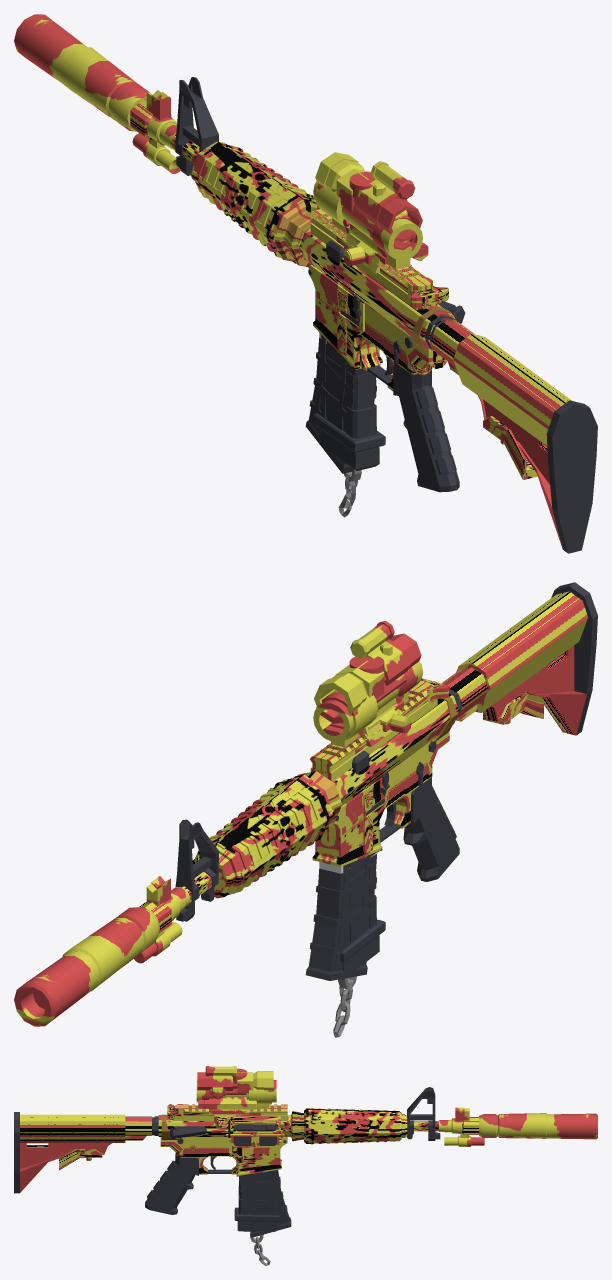
3 views of the same model, one above another, from view 1: azimuth 30°, elevation 25°; view 2: azimuth 150°, elevation 25°; view 3: azimuth 270°, elevation 25° (orthographic). The views are drawn at different scales.
Parts seen in each view (by area): view 1: Base, Patron3, Aim3, Muffler2, Muffler3, Handle2, Aim2, Handle3, Patron2, Aim1; view 2: Base, Muffler3, Aim3, Muffler2, Patron3, Aim2, Handle2, Patron1, Patron2, Handle3, Aim1; view 3: Base, Muffler2, Patron3, Muffler3, Aim3, Patron2, Handle3, Aim1, Handle2, Aim2, Patron1, Muffle.
Boxes of the visible parts, x1,y1,x2,y2 form: Base: [171, 77, 597, 553]; Patron3: [313, 335, 385, 517]; Aim3: [315, 152, 422, 269]; Muffler2: [60, 47, 177, 150]; Muffler3: [14, 14, 180, 173]; Handle2: [393, 364, 459, 492]; Aim2: [313, 172, 422, 273]; Handle3: [405, 370, 456, 491]; Patron2: [305, 333, 376, 473]; Aim1: [341, 205, 428, 265]; Base: [175, 582, 597, 921]; Muffler3: [14, 883, 185, 1026]; Aim3: [314, 621, 421, 747]; Muffler2: [62, 876, 190, 991]; Patron3: [333, 853, 385, 1037]; Aim2: [313, 656, 423, 746]; Handle2: [403, 777, 459, 881]; Patron1: [305, 853, 376, 980]; Patron2: [309, 852, 377, 979]; Handle3: [404, 786, 456, 880]; Aim1: [340, 670, 411, 733]; Base: [14, 1087, 440, 1193]; Muffler2: [439, 1107, 547, 1138]; Patron3: [234, 1170, 279, 1265]; Muffler3: [444, 1108, 597, 1146]; Aim3: [197, 1066, 273, 1108]; Patron2: [239, 1170, 291, 1237]; Handle3: [145, 1154, 197, 1210]; Aim1: [198, 1087, 256, 1114]; Handle2: [145, 1157, 198, 1214]; Aim2: [196, 1068, 276, 1116]; Patron1: [246, 1170, 291, 1237]; Muffle: [462, 1117, 478, 1134].
Bounding box in the file's own units: 0.2114 × 1.09 × 2.85.
